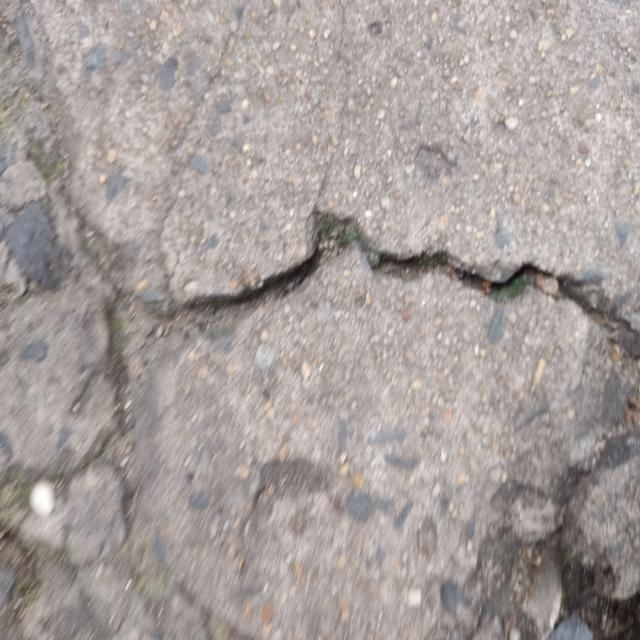curved crack: (149, 209, 639, 359)
